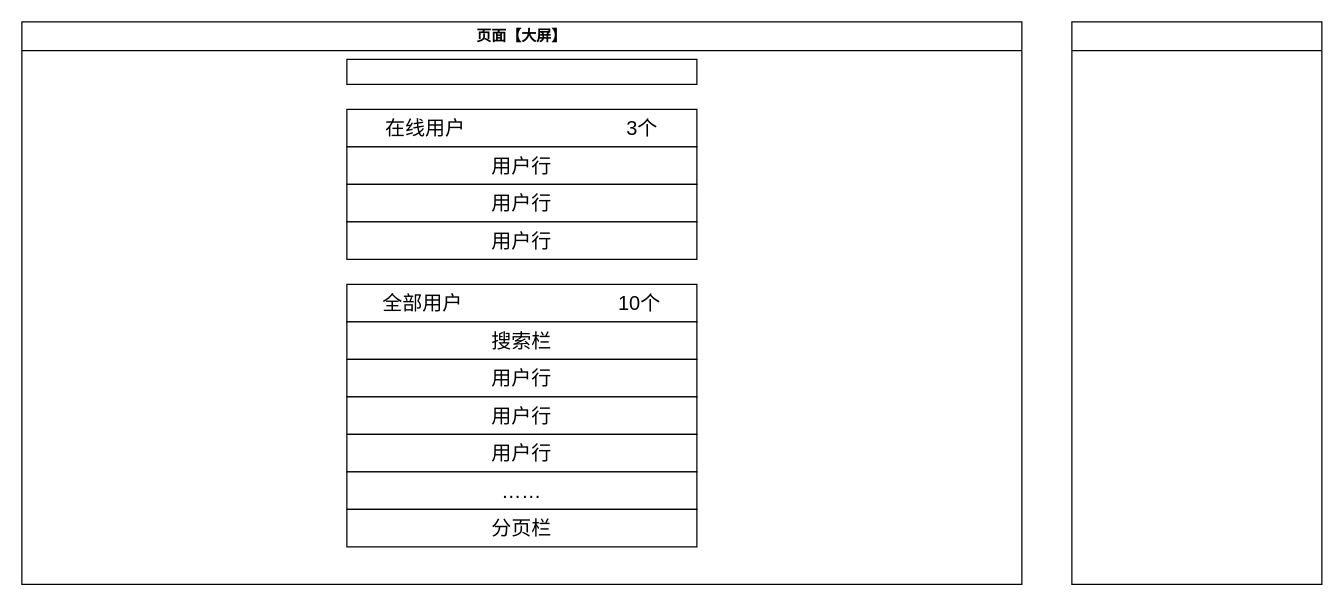
Some shapes in this 1344 by 606 pixel diagram are drawn without their labels. The box of each missing label's shape, as (x1, y1, x2, y2) in pixels:
页面【小屏】: (1071, 21, 1322, 584)
顶栏: (346, 58, 697, 84)
